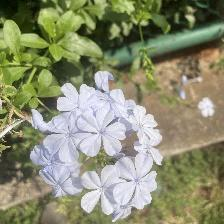chitrak: (116, 153, 158, 209), (77, 109, 129, 154), (82, 165, 125, 216), (49, 112, 88, 163), (42, 163, 83, 201), (57, 81, 100, 116), (126, 104, 160, 147)
